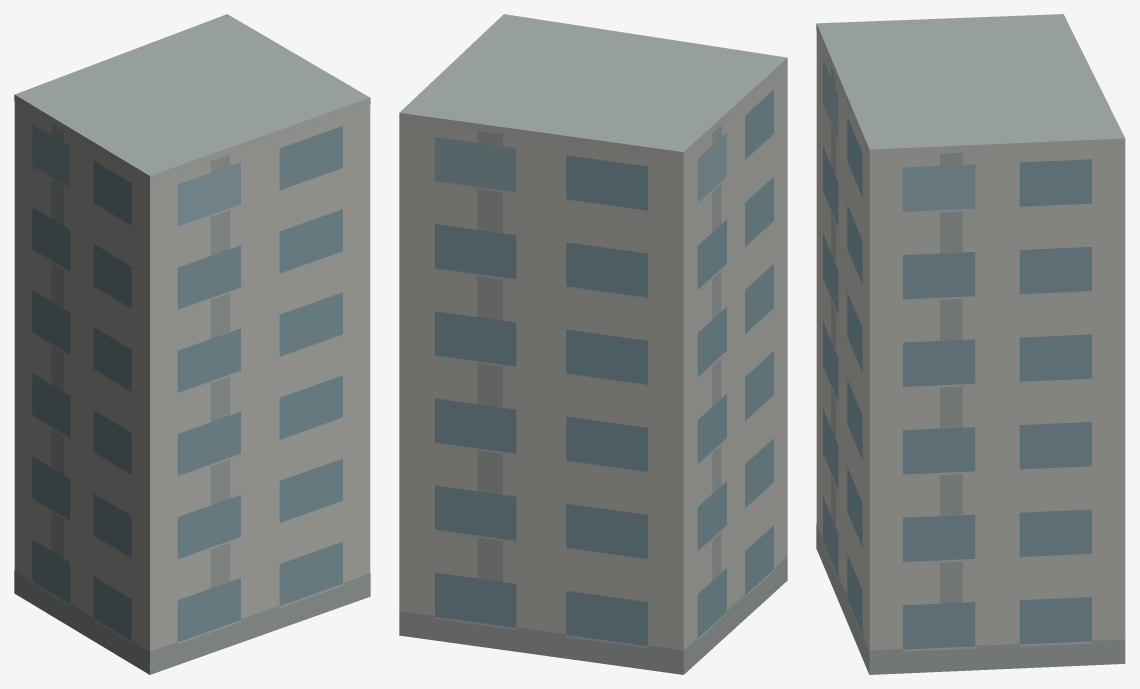
File: survey-upis-32858019.glb
The picture shows the model from 3 angles, left to right: view 1: azimuth 30°, elevation 25°; view 2: azimuth 150°, elevation 25°; view 3: azimuth 270°, elevation 25°; orthographic projection. The views are drawn at different scales.
Visible parts, largest first — view 1: survey-upis-32858019.tmp; view 2: survey-upis-32858019.tmp; view 3: survey-upis-32858019.tmp.
Part boxes in pixels (x1,y1,x2,y2): survey-upis-32858019.tmp: (14,14,370,674); survey-upis-32858019.tmp: (399,14,787,674); survey-upis-32858019.tmp: (816,14,1125,674).
Size of the model in its own units: 9.88 by 17.85 by 9.52.
